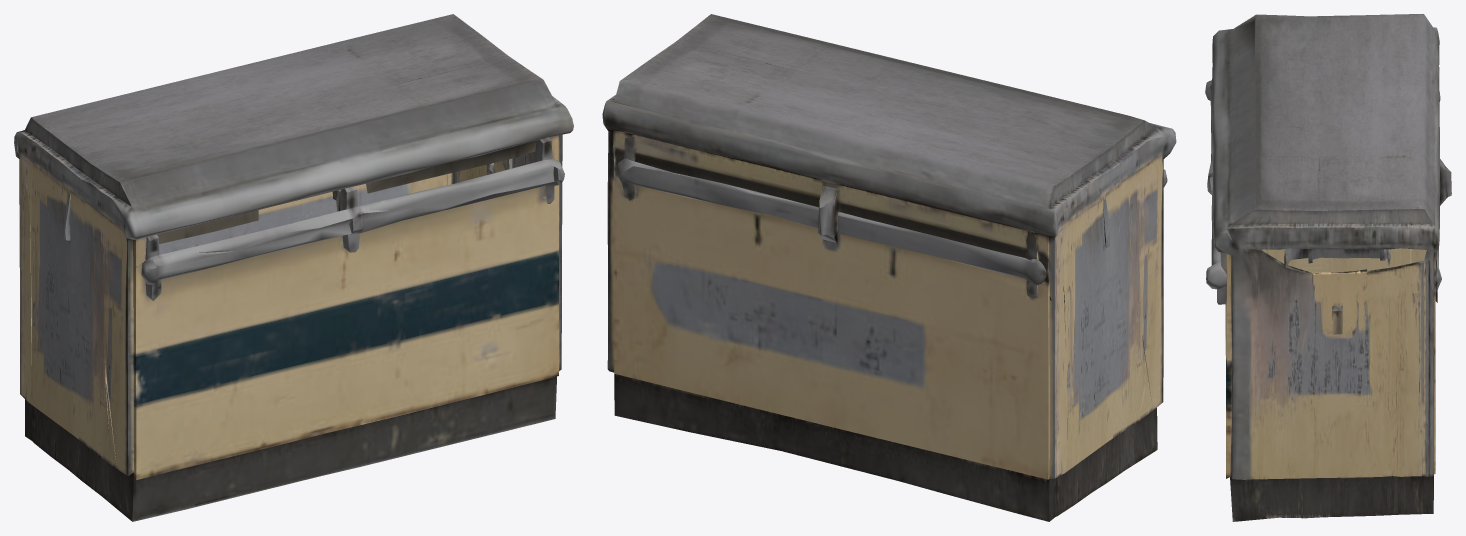
Rendered from shop-counter.glb.
The picture shows the model from 3 angles, left to right: view 1: azimuth 30°, elevation 25°; view 2: azimuth 150°, elevation 25°; view 3: azimuth 270°, elevation 25°; orthographic projection. The views are drawn at different scales.
Parts seen in each view (by area): view 1: shopCounter; view 2: shopCounter; view 3: shopCounter.
Boxes of the visible parts, x1=… form: shopCounter: x1=14, y1=14, x2=573, y2=521; shopCounter: x1=602, y1=14, x2=1176, y2=521; shopCounter: x1=1205, y1=14, x2=1451, y2=521.
Size of the model in its own units: 1.5 by 1.05 by 0.75.
1 material, 1 textured.
